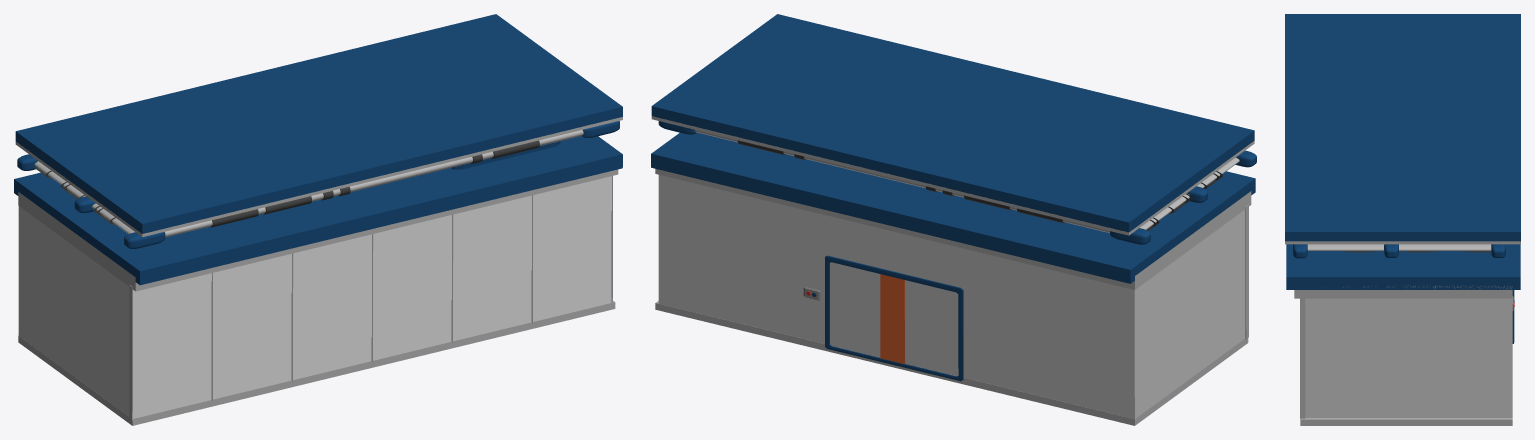
The model's file is laboratory.fbx.
3 renders of one model, left to right at view 1: azimuth 30°, elevation 25°; view 2: azimuth 150°, elevation 25°; view 3: azimuth 270°, elevation 25°, orthographic. The views are drawn at different scales.
Visible parts, largest first — view 1: 建築物天.005, 玻璃.001, 天花板.012, 左牆, 地板.005; view 2: 建築物天.005, 後牆.007, 天花板.012, 左牆, 門.002, 地板.005, 右牆; view 3: 建築物天.005, 右牆, 天花板.012, 地板.005, 玻璃.001.
Part boxes in pixels (x1=…): 建築物天.005: x1=15, y1=14, x2=622, y2=248; 玻璃.001: x1=129, y1=176, x2=612, y2=420; 天花板.012: x1=14, y1=136, x2=622, y2=291; 左牆: x1=18, y1=206, x2=129, y2=416; 地板.005: x1=18, y1=300, x2=615, y2=425; 建築物天.005: x1=651, y1=14, x2=1256, y2=244; 後牆.007: x1=663, y1=176, x2=1129, y2=417; 天花板.012: x1=651, y1=132, x2=1255, y2=289; 左牆: x1=1129, y1=209, x2=1245, y2=418; 門.002: x1=830, y1=262, x2=958, y2=375; 地板.005: x1=655, y1=301, x2=1248, y2=425; 右牆: x1=658, y1=175, x2=663, y2=304; 建築物天.005: x1=1285, y1=14, x2=1520, y2=258; 右牆: x1=1305, y1=298, x2=1512, y2=417; 天花板.012: x1=1286, y1=244, x2=1520, y2=298; 地板.005: x1=1300, y1=418, x2=1512, y2=425; 玻璃.001: x1=1300, y1=298, x2=1305, y2=418.
Bounding box in the file's own units: 1686 × 682 × 752.
